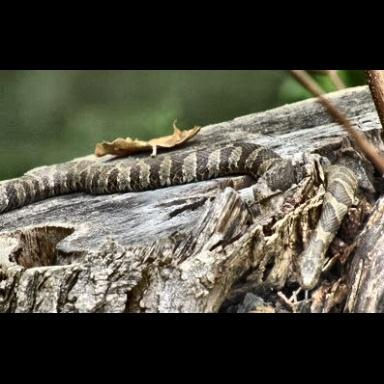snake: (2, 142, 374, 290)
